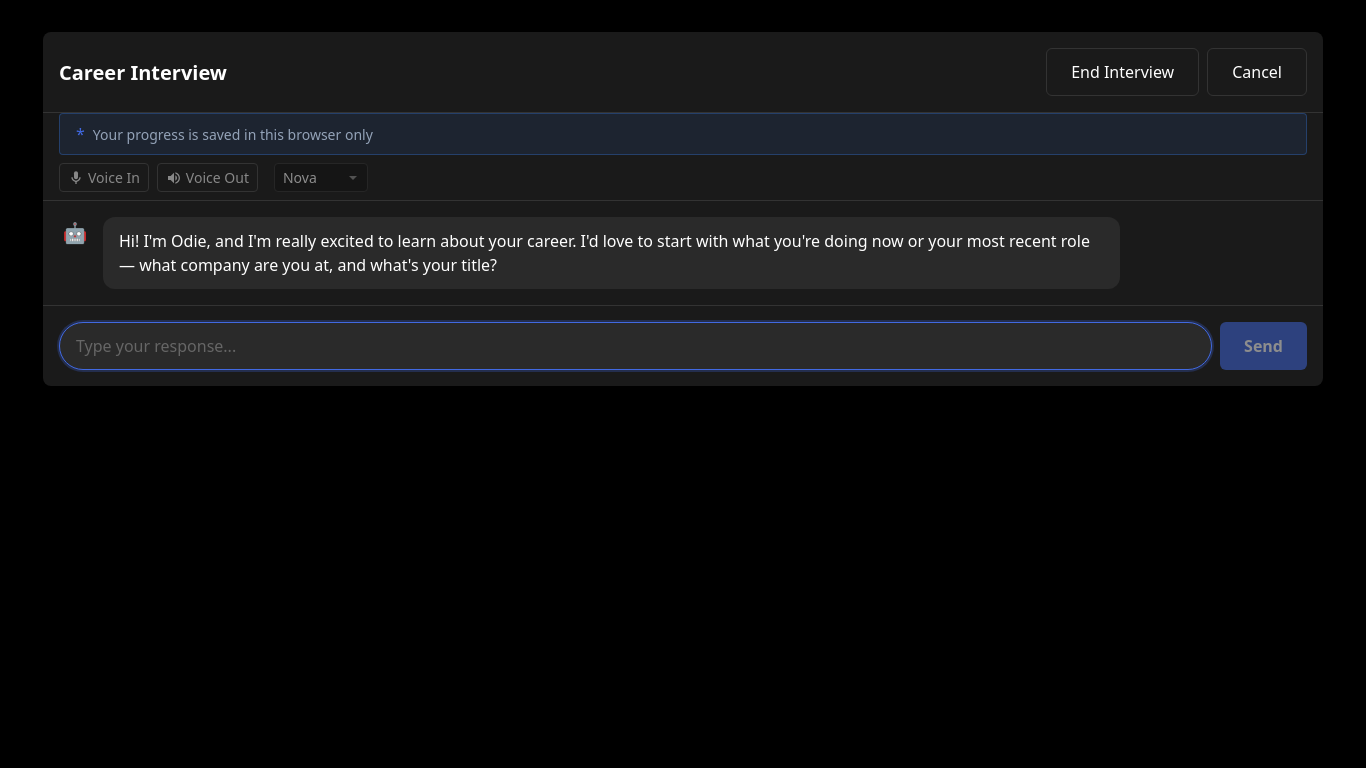
Test case: InterviewChat › should accumulate bullets through interview
// First message - trigger position extraction
Type "Acme Corp, Software Engineer" into the field with test id "interview-input" at (636, 346), box [59,322,1212,370]
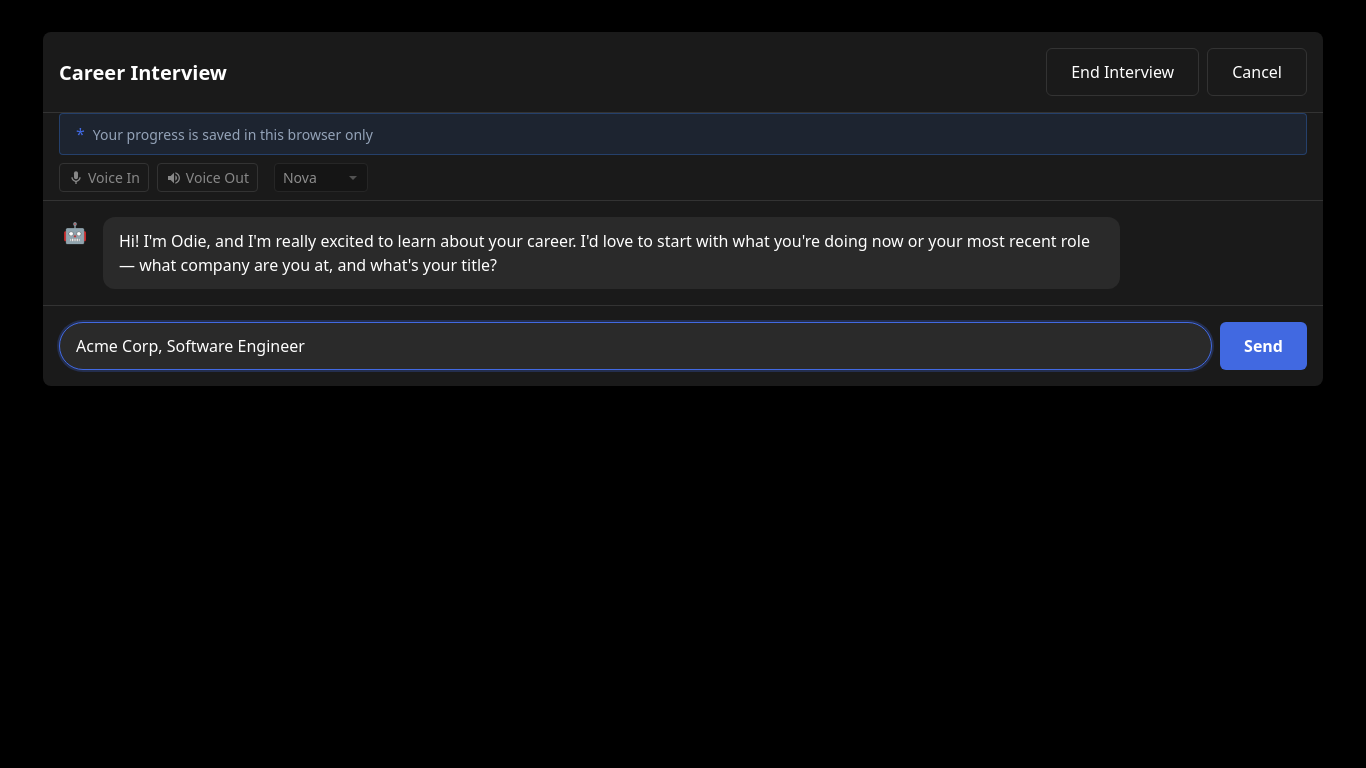
Click the button with test id "interview-send" at (1264, 346), box [1220,322,1307,370]
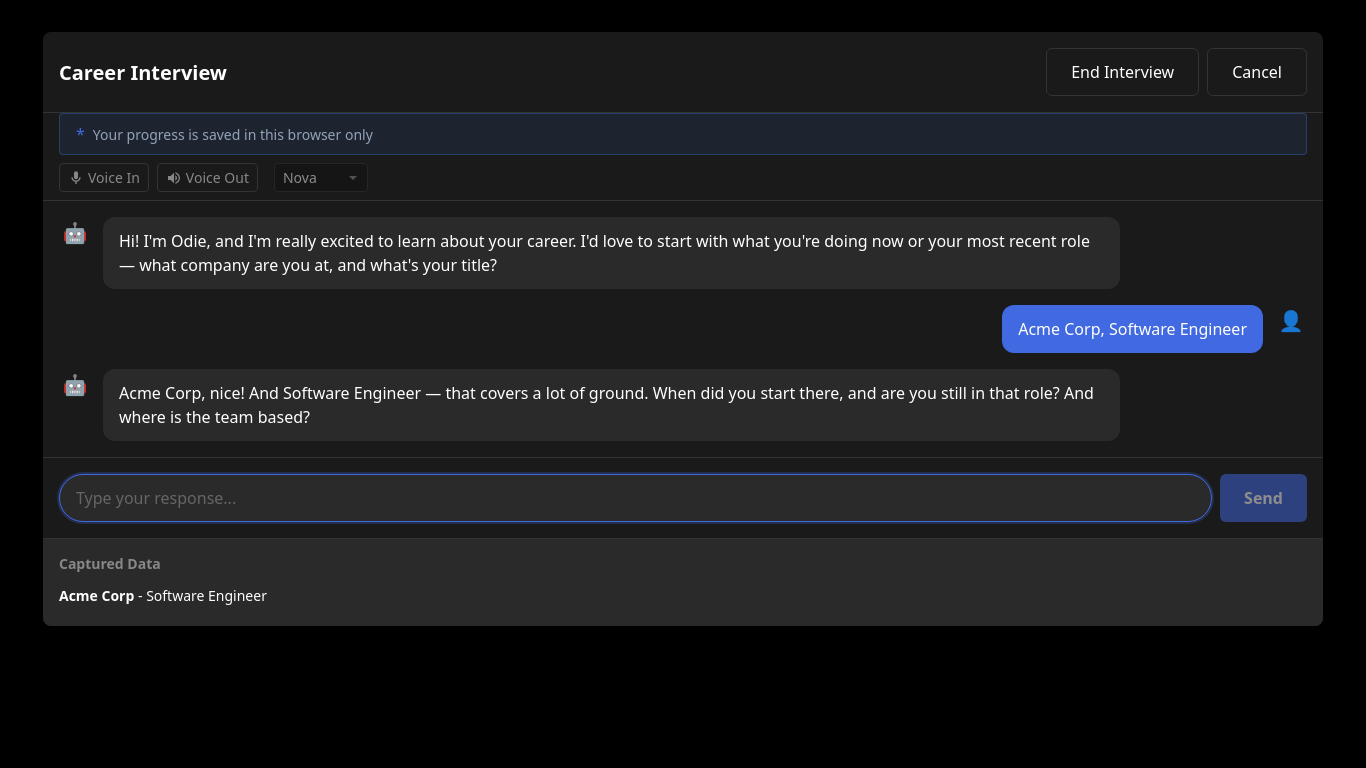
Check: the element with test id "interview-preview" is shown, box [43,538,1323,626]
// Second message - add dates
Type "Jan 2022 to Jan 2024, San Francisco" into the field with test id "interview-input" at (636, 498), box [59,474,1212,522]
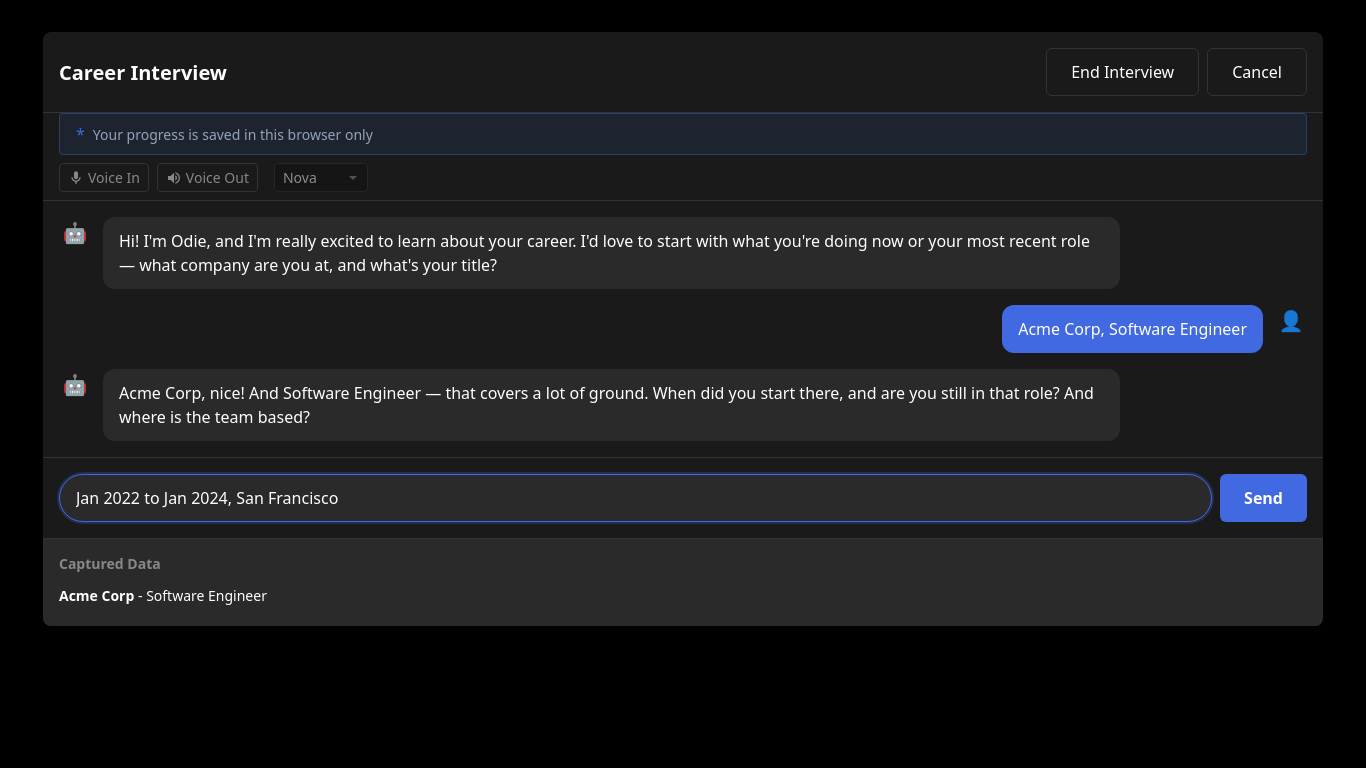
Click the button with test id "interview-send" at (1264, 498), box [1220,474,1307,522]
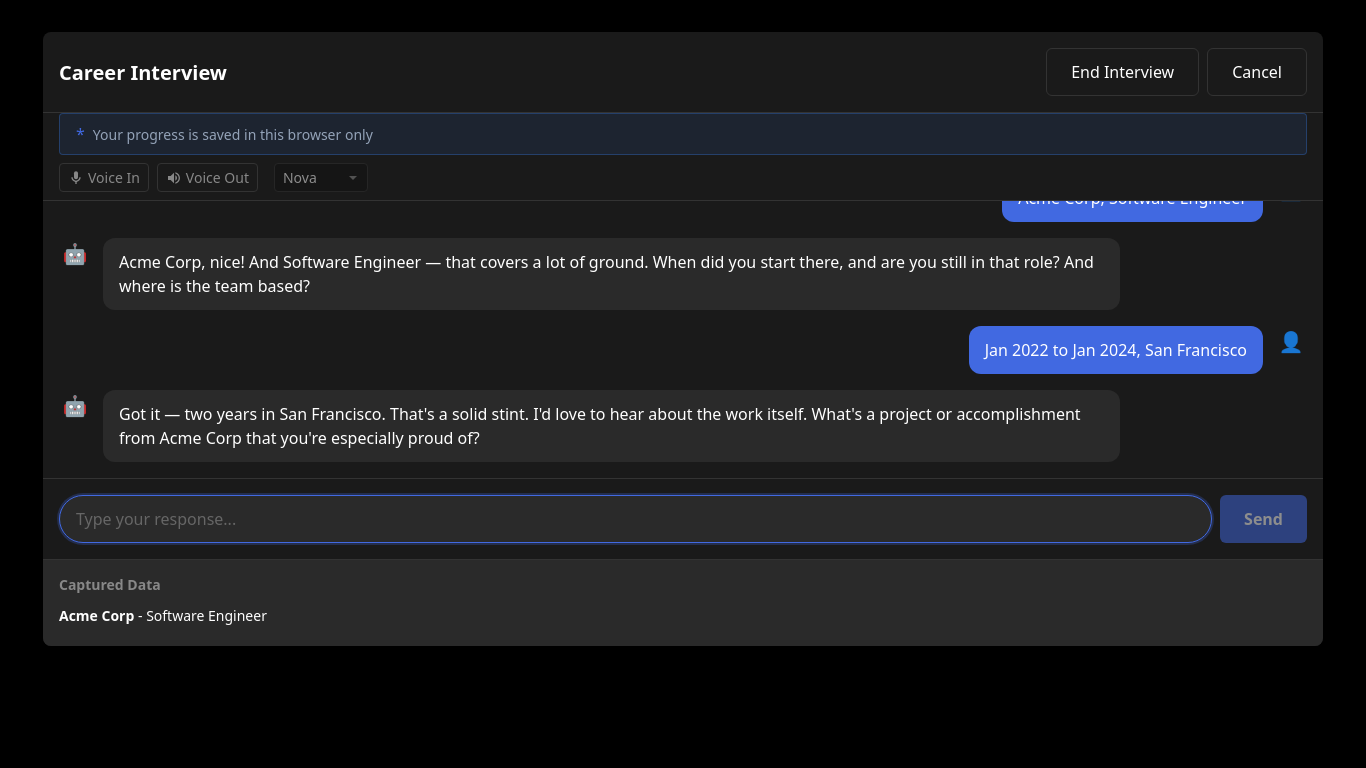
Check: the element with test id "interview-preview" shows "Acme Corp", box [59,606,134,625]
// Third message - trigger bullet extraction
Type "I reduced API latency by 40%" into the field with test id "interview-input" at (636, 519), box [59,495,1212,543]
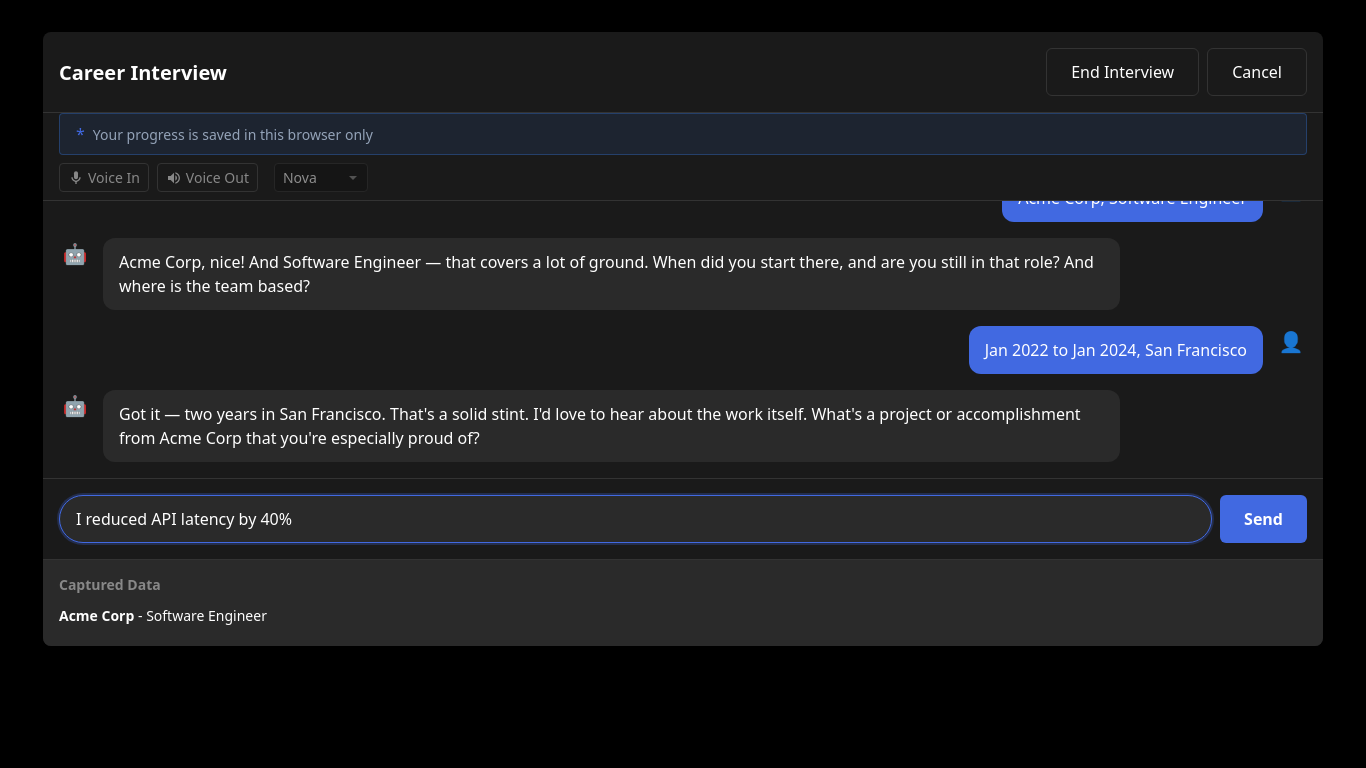
Click the button with test id "interview-send" at (1264, 519), box [1220,495,1307,543]
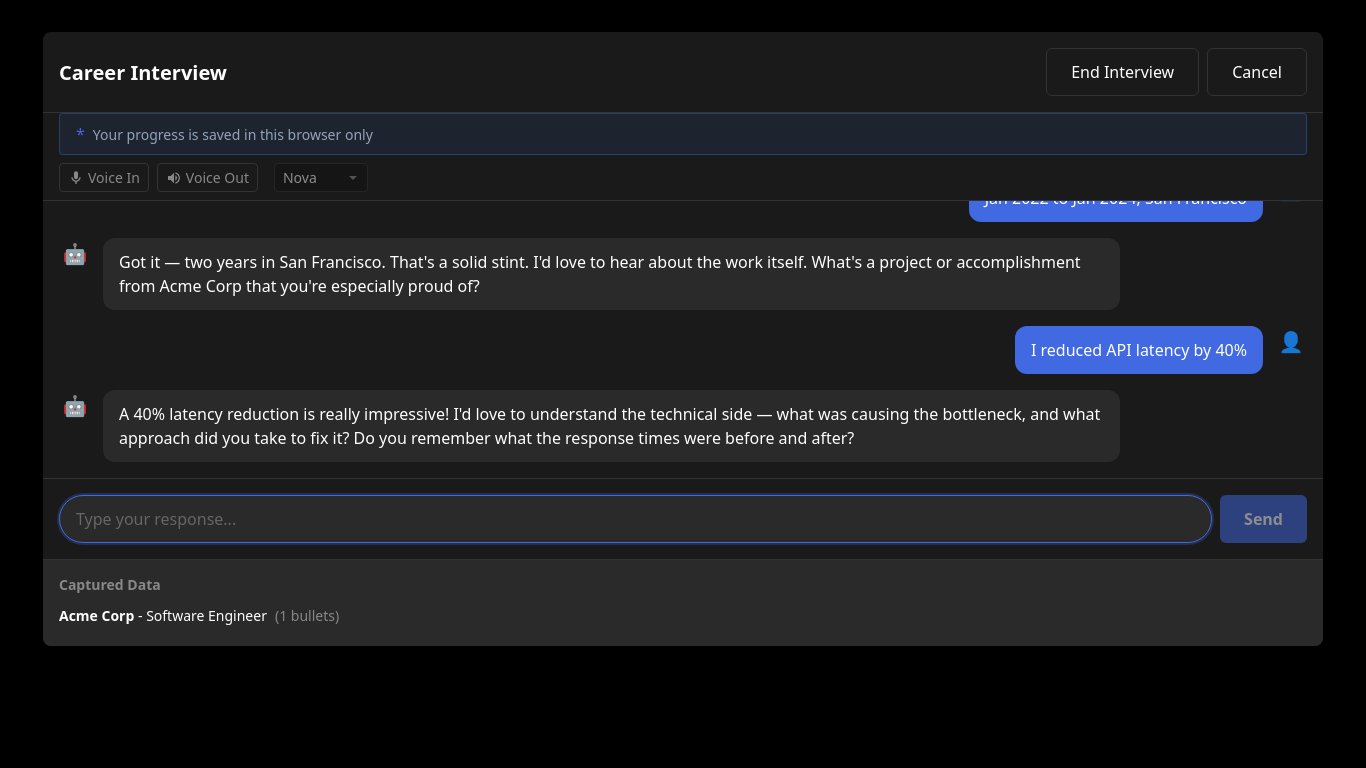
Check: the element with test id "interview-preview" shows "1 bullets", box [43,559,1323,646]
